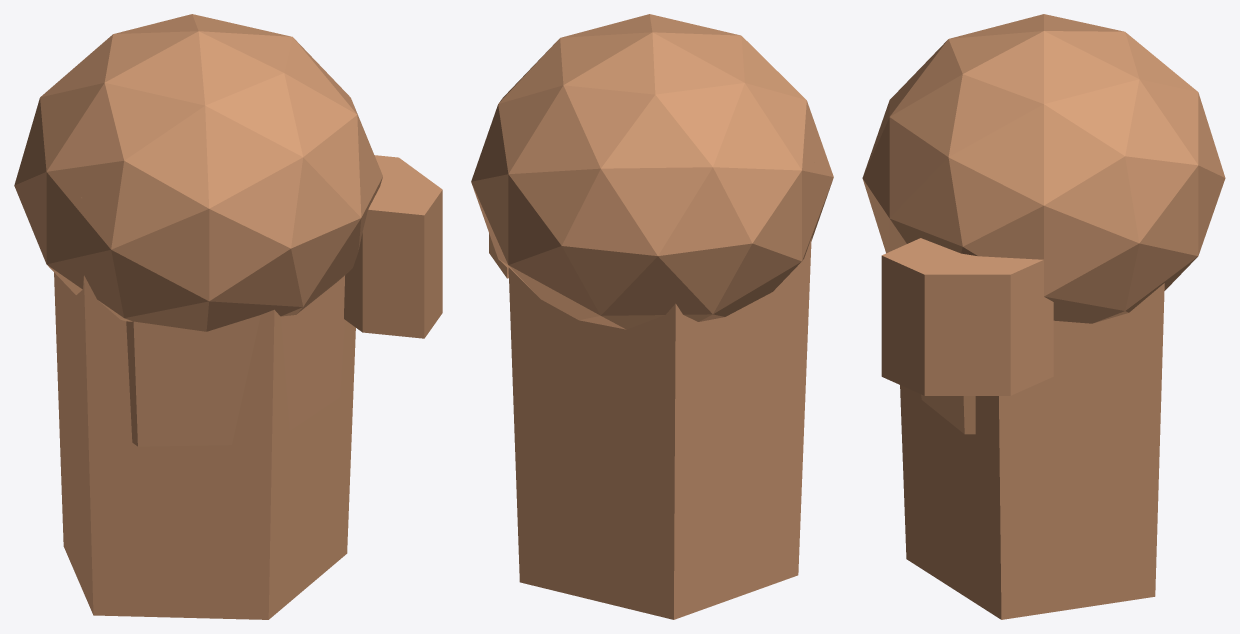
File: arm.R.flesh.glb
3 renders of one model, left to right at view 1: azimuth 30°, elevation 25°; view 2: azimuth 150°, elevation 25°; view 3: azimuth 270°, elevation 25°, orthographic.
Visible parts, largest first — view 1: arm.R@flesh.team.skin, hand.R@flesh.team.skin; view 2: arm.R@flesh.team.skin; view 3: arm.R@flesh.team.skin, hand.R@flesh.team.skin.
Part boxes in pixels (box(x1,y1,x2,y2)): arm.R@flesh.team.skin: box(14, 14, 382, 619); hand.R@flesh.team.skin: box(126, 155, 442, 446); arm.R@flesh.team.skin: box(471, 14, 833, 619); arm.R@flesh.team.skin: box(862, 14, 1225, 619); hand.R@flesh.team.skin: box(881, 238, 1053, 434).
Size of the model in its own units: 0.1992 by 0.305 by 0.19.
